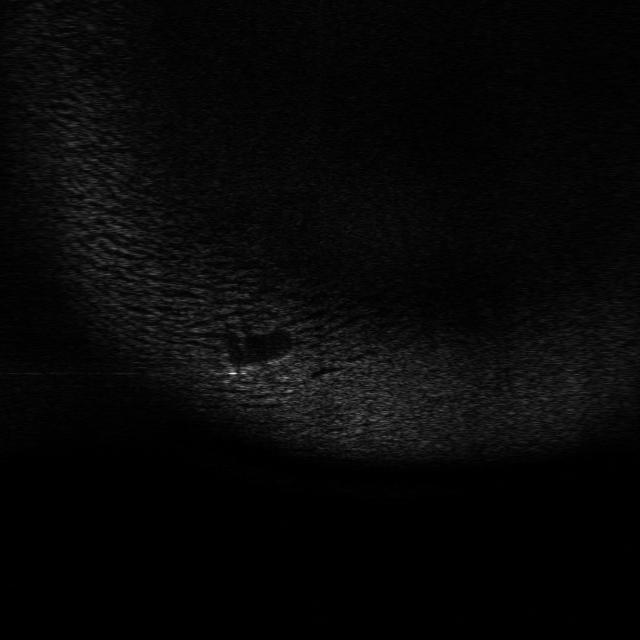plane: (218, 351, 294, 386)
